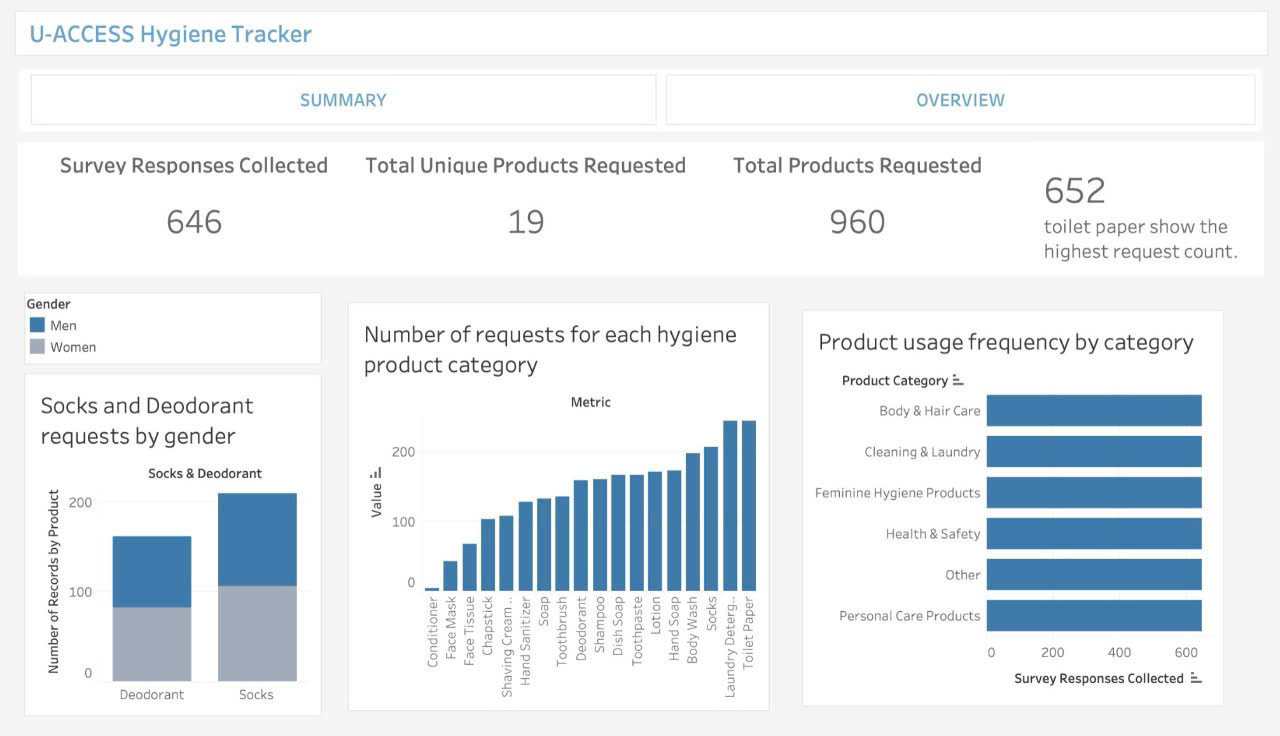

What the dashboard file says about the page in this screenshot:
{"tool":"tableau","page":{"name":"Dashboard 1","canvas":[1200,700],"ordinal":0},"visuals":[{"type":"text","box":[8,8,1184,62]},{"type":"blank","box":[18,68,1162,66]},{"type":"dashboard-object","box":[33,77,581,47]},{"type":"dashboard-object","box":[623,77,547,47]},{"type":"worksheet","title":"1st 3 key metrics","mark":"Automatic","box":[17,136,960,132]},{"type":"blank","box":[8,137,1184,555]},{"type":"text","box":[961,139,217,125]},{"type":"legend","title":"Socks and Deodorant requests by gender","param":"[federated.0l7x5a61v0d5yo13ygaq61hu5uty].[none:Calculation_801077826038997002:nk","box":[23,275,284,75]},{"type":"worksheet","title":"Number of requests for each hygiene product category","mark":"Automatic","rows":["value"],"cols":["metric"],"box":[323,284,400,387]},{"type":"worksheet","title":"Product usage frequency by category","mark":"Automatic","rows":["product_category"],"cols":["Calculation_664140249515679744"],"box":[745,291,400,376]},{"type":"worksheet","title":"Socks and Deodorant requests by gender","mark":"Automatic","rows":["Calculation_801077826036547585"],"cols":["Pivot Field Names"],"box":[23,350,284,326]}]}

Visuals, with their boxes in screenshot pixels (x1, y1, x2, y2), scaled from the page's 1200x700 canvas onto the 1280x736 screenshot:
text: [9,8,1271,74]
blank: [19,71,1259,141]
dashboard-object: [35,81,655,130]
dashboard-object: [665,81,1248,130]
"1st 3 key metrics" worksheet: [18,143,1042,282]
blank: [9,144,1271,728]
text: [1025,146,1257,278]
"Socks and Deodorant requests by gender" legend: [25,289,327,368]
"Number of requests for each hygiene product category" worksheet: [345,299,771,706]
"Product usage frequency by category" worksheet: [795,306,1221,701]
"Socks and Deodorant requests by gender" worksheet: [25,368,327,711]
